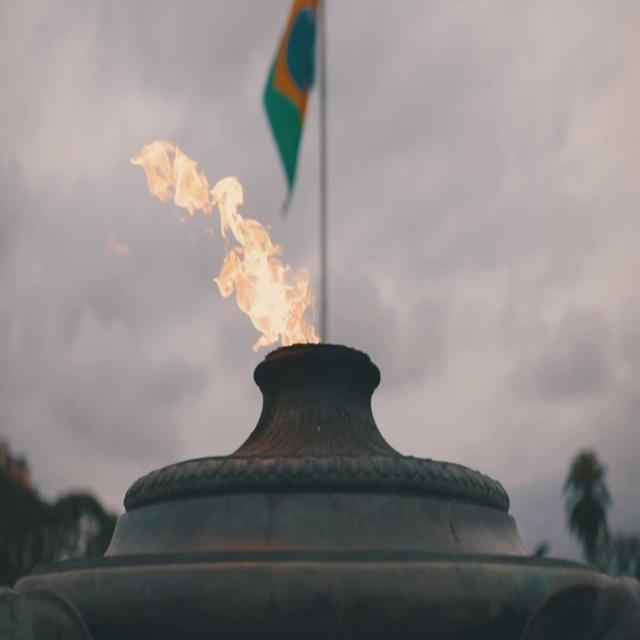Fire: (141, 141, 313, 354)
